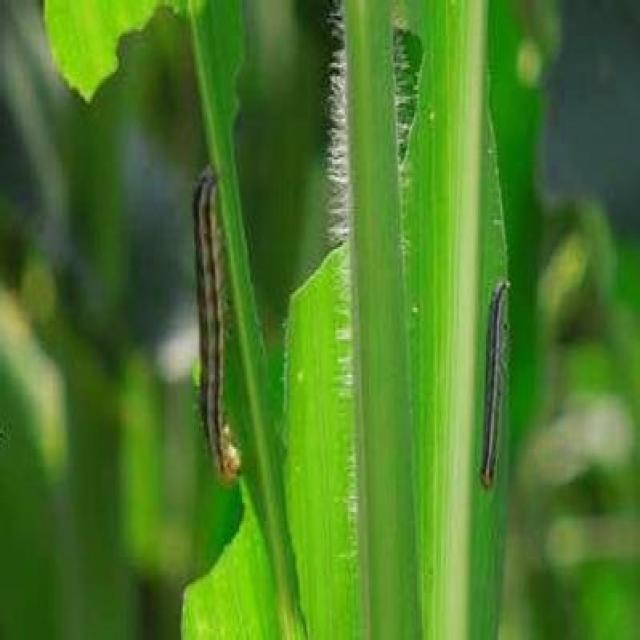army worm: (191, 165, 250, 484), (480, 275, 510, 504)
